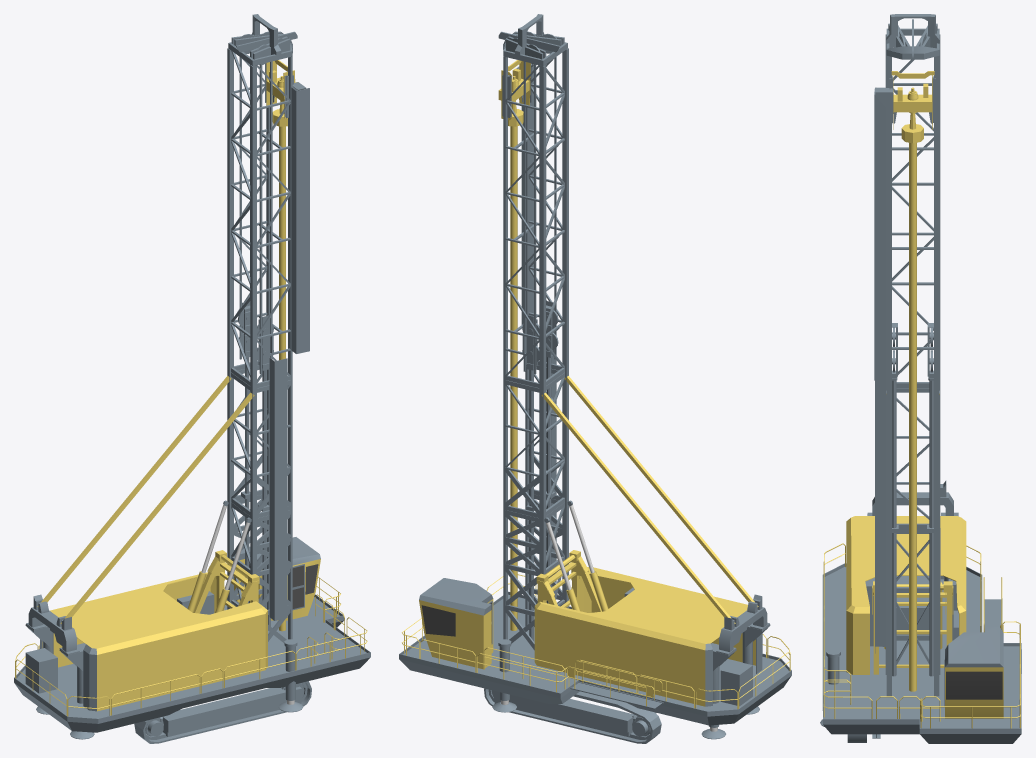
Rendered from PitViper_5k_v.gltf.
The picture shows the model from 3 angles, left to right: view 1: azimuth 30°, elevation 25°; view 2: azimuth 150°, elevation 25°; view 3: azimuth 270°, elevation 25°; orthographic projection. The views are drawn at different scales.
Parts seen in each view (by area): view 1: PitViper; view 2: PitViper; view 3: PitViper.
Part boxes in pixels (x1,y1,x2,y2): PitViper: (14, 14, 370, 743); PitViper: (399, 14, 791, 743); PitViper: (820, 14, 1021, 743).
Size of the model in its own units: 11.99 by 24.51 by 6.19.
